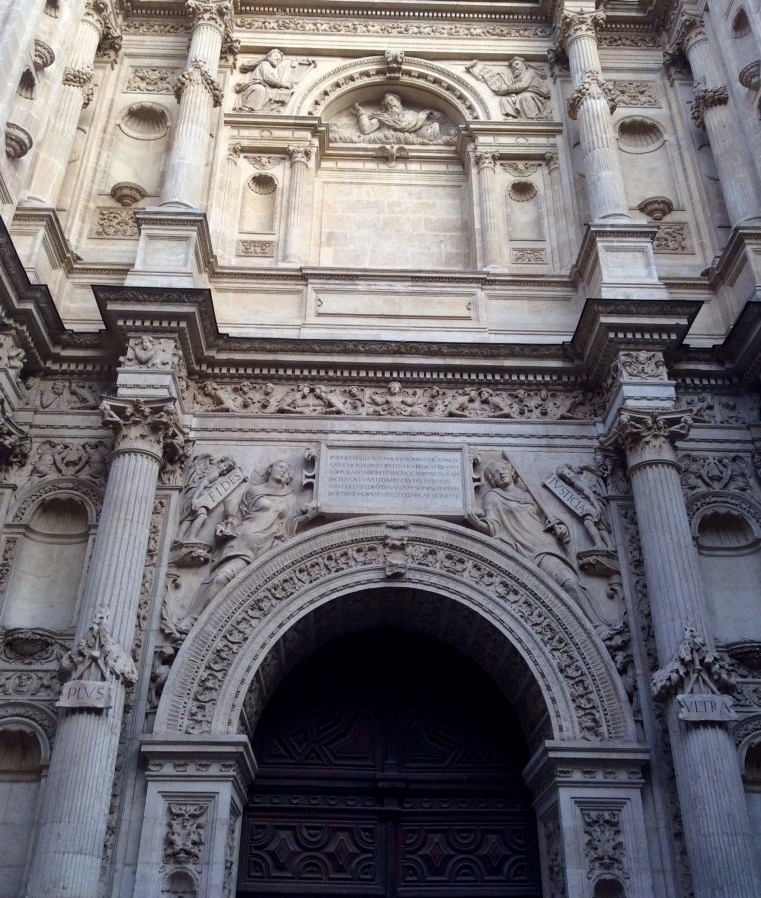arco-medio-punto: (221, 569, 578, 810), (309, 65, 481, 160)
